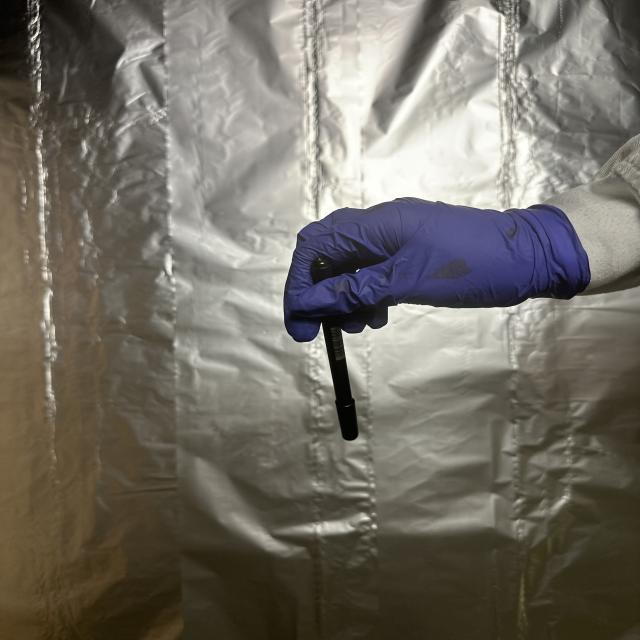gloves_contaminated: (284, 198, 590, 341)
